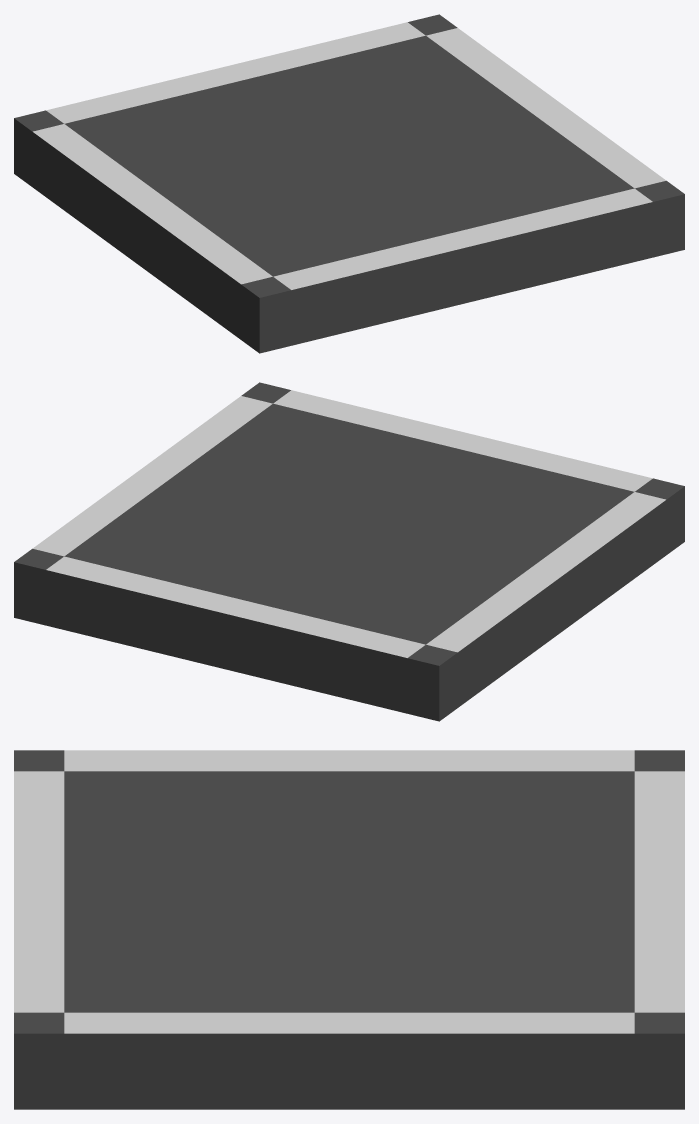
File: intersection.glb
The picture shows the model from 3 angles, top to bottom: view 1: azimuth 30°, elevation 25°; view 2: azimuth 150°, elevation 25°; view 3: azimuth 270°, elevation 25°; orthographic projection. The views are drawn at different scales.
Parts seen in each view (by area): view 1: Intersection C; view 2: Intersection C; view 3: Intersection C.
Boxes of the visible parts, x1,y1,x2,y2 form: Intersection C: (14, 14, 684, 353); Intersection C: (14, 382, 684, 721); Intersection C: (14, 750, 684, 1109).
Size of what is drawn, in the model's own units: 8 by 1 by 8.
Materials: 1 (1 with a texture image).
